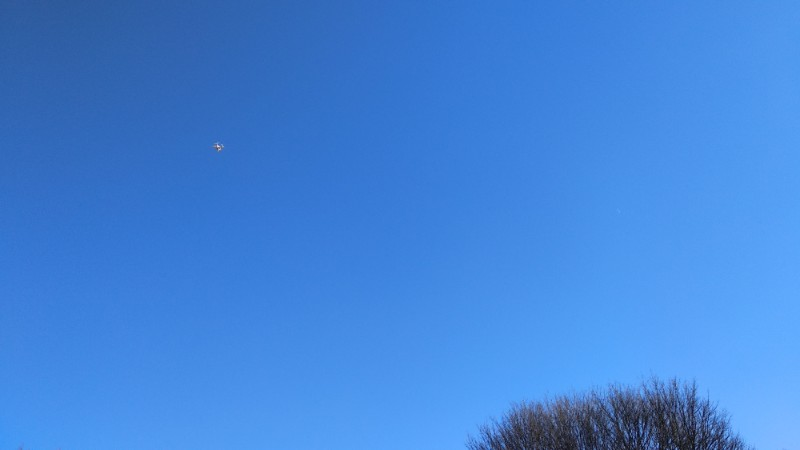drone: (213, 140, 222, 153)
